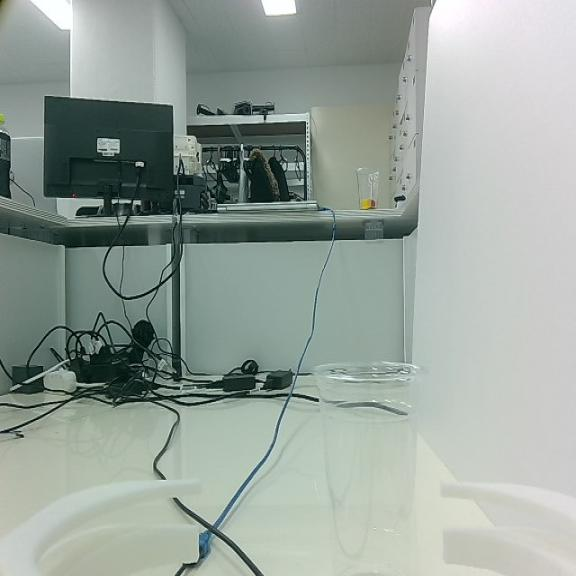Plastik: (314, 362, 424, 574)
